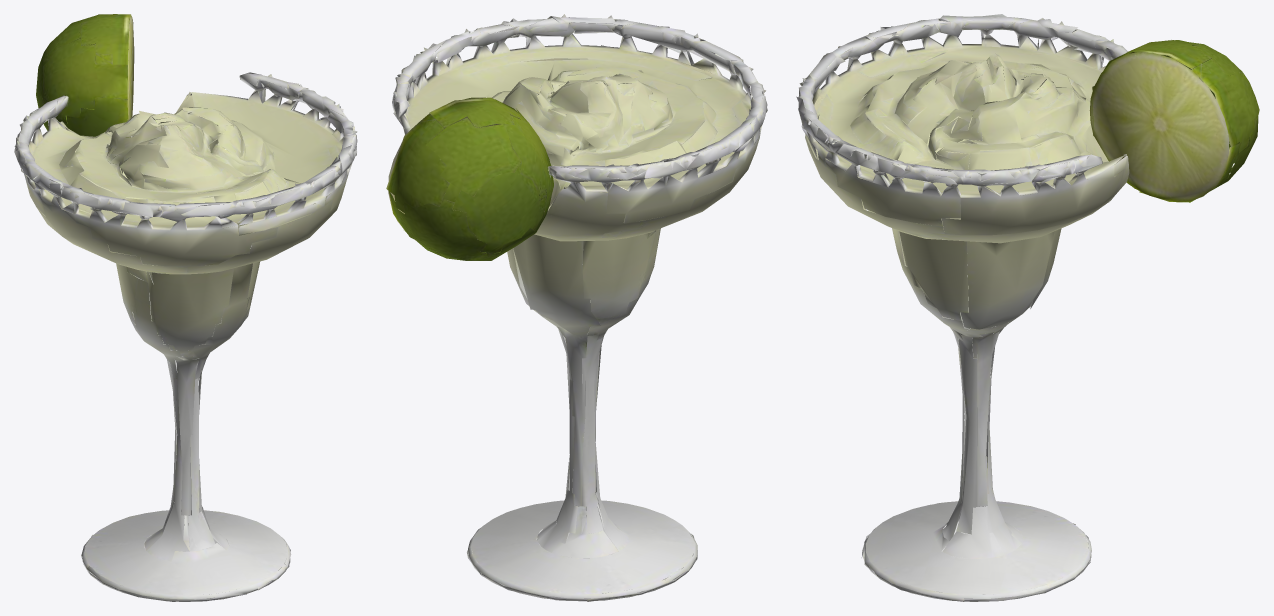
Rendered from margarita.glb.
3 renders of one model, left to right at view 1: azimuth 30°, elevation 25°; view 2: azimuth 150°, elevation 25°; view 3: azimuth 270°, elevation 25°, orthographic. The views are drawn at different scales.
Visible parts, largest first — view 1: tripo_node_e8a2de55-b356-4b63-949f-74e9d22b813b; view 2: tripo_node_e8a2de55-b356-4b63-949f-74e9d22b813b; view 3: tripo_node_e8a2de55-b356-4b63-949f-74e9d22b813b.
Boxes of the visible parts, box(x1,y1,x2,y2) form: tripo_node_e8a2de55-b356-4b63-949f-74e9d22b813b: box(14, 14, 357, 601); tripo_node_e8a2de55-b356-4b63-949f-74e9d22b813b: box(386, 14, 767, 601); tripo_node_e8a2de55-b356-4b63-949f-74e9d22b813b: box(796, 14, 1259, 601).
Size of the model in its own units: 0.1207 by 0.1802 by 0.1472.
Materials: 1 (1 with a texture image).
